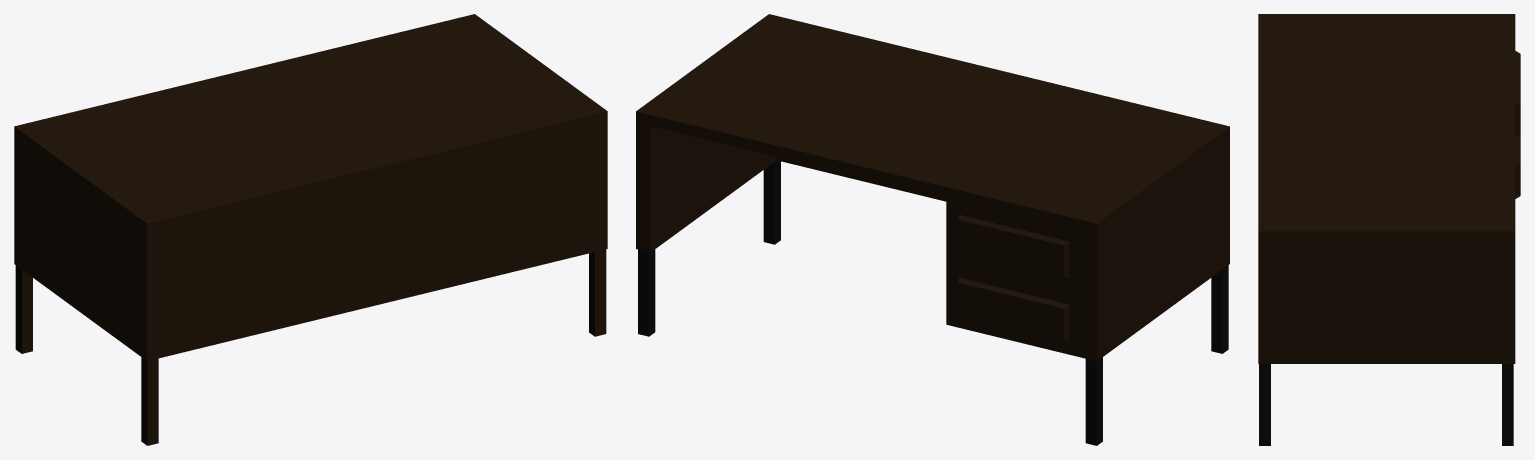
File: Desk_Jam_Lofi.FBX
The picture shows the model from 3 angles, left to right: view 1: azimuth 30°, elevation 25°; view 2: azimuth 150°, elevation 25°; view 3: azimuth 270°, elevation 25°; orthographic projection. The views are drawn at different scales.
Visible parts, largest first — view 1: Desk; view 2: Desk; view 3: Desk.
Boxes of the visible parts, bbox=[...] form: Desk: bbox=[14, 14, 607, 445]; Desk: bbox=[636, 14, 1229, 445]; Desk: bbox=[1258, 14, 1520, 445].
Bounding box in the file's own units: 200 × 92.43 × 102.
